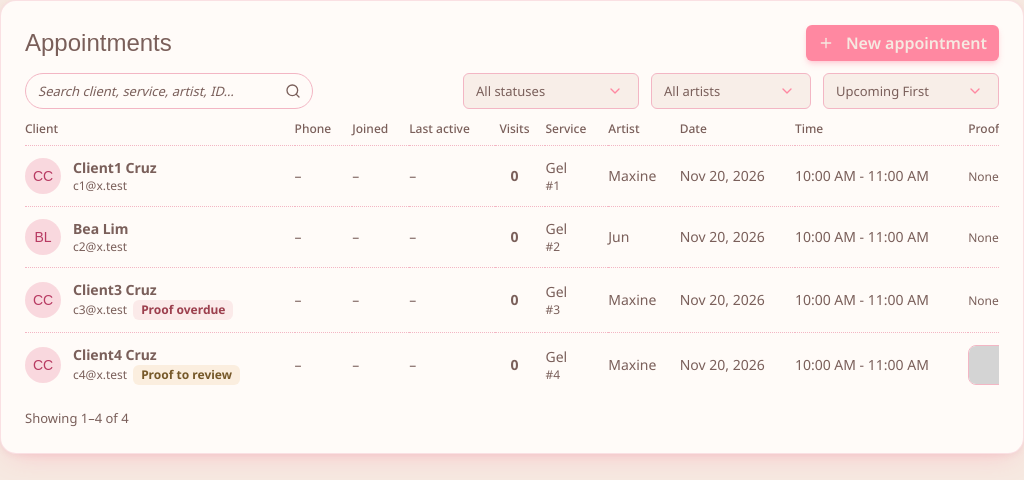
it: Appointments table › no longer offers the pending and proof filters, and opens an old link to one on All
Expected: the table named "Appointments" is shown, [25, 121, 999, 397]
What coordinates should you click on to do the following:
click the button "All statuses"
I would click on:
 (551, 91)
Its box is [463, 73, 639, 109].
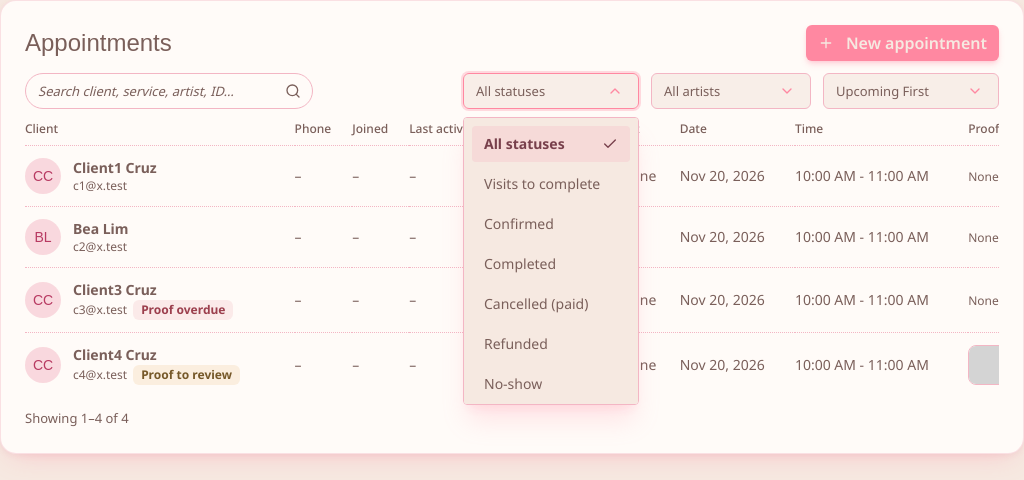
Expected: the option "Confirmed" is shown, [472, 206, 630, 242]
